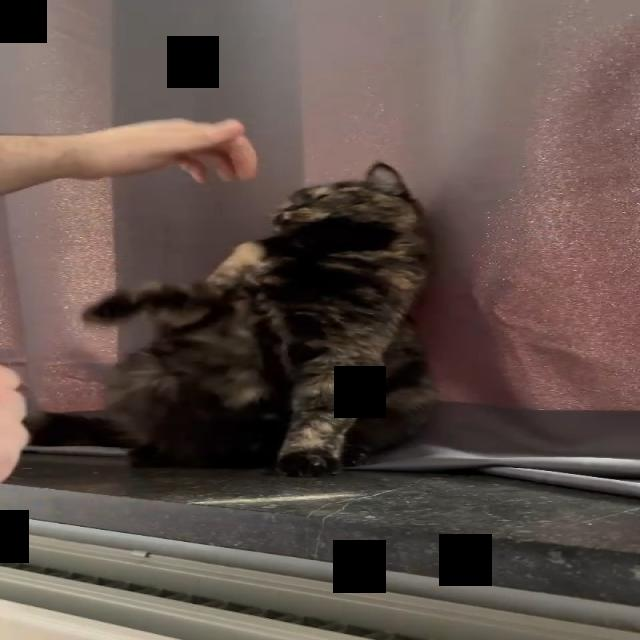authorized: (24, 160, 439, 478)
